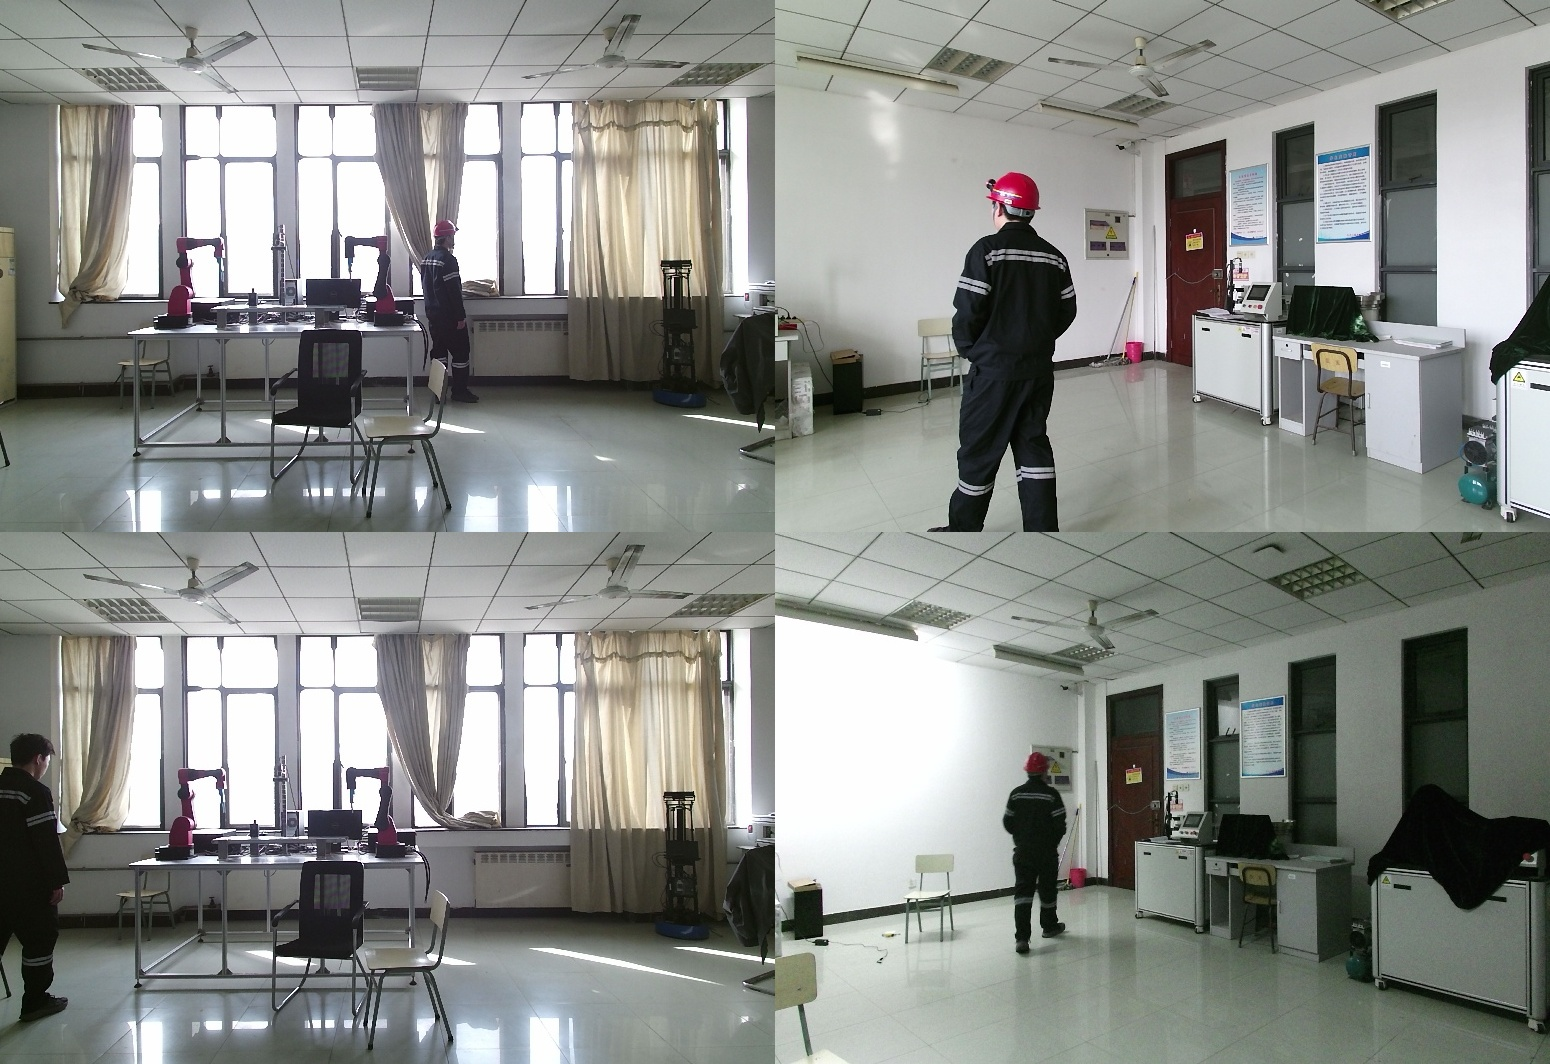person: (927, 172, 1094, 532), (2, 734, 75, 1030), (994, 752, 1070, 963), (425, 220, 483, 414)
